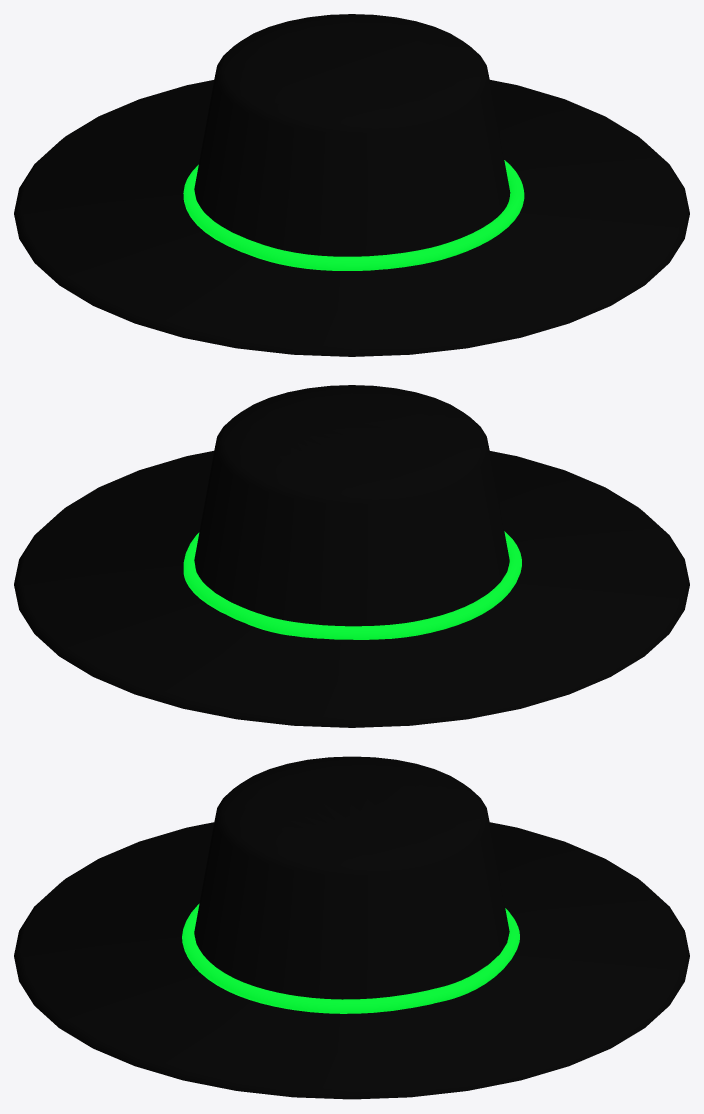
Rendered from Hut.fbx.
3 views of the same model, one above another, from view 1: azimuth 30°, elevation 25°; view 2: azimuth 150°, elevation 25°; view 3: azimuth 270°, elevation 25° (orthographic).
Parts seen in each view (by area): view 1: Hut_Export; view 2: Hut_Export; view 3: Hut_Export.
Boxes of the visible parts, x1,y1,x2,y2 form: Hut_Export: (14, 14, 689, 356); Hut_Export: (14, 385, 689, 727); Hut_Export: (14, 756, 689, 1099).
Size of the model in its own units: 93.23 by 22.72 by 93.23.
